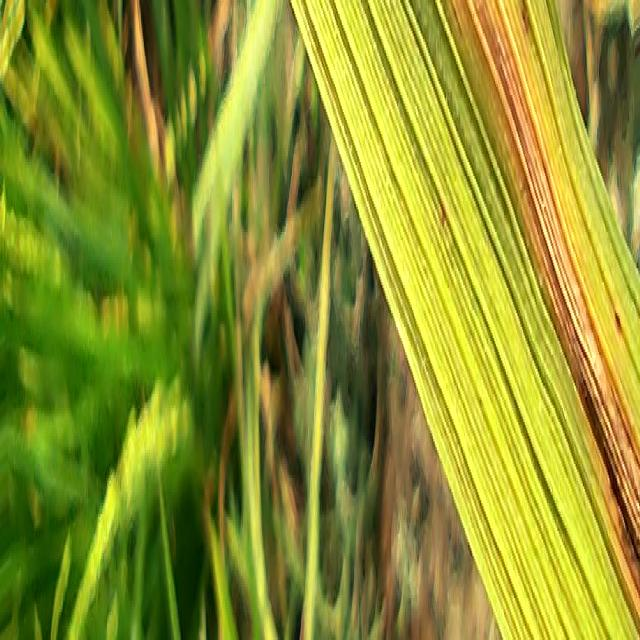LEAF BLAST: (564, 267, 638, 572)
